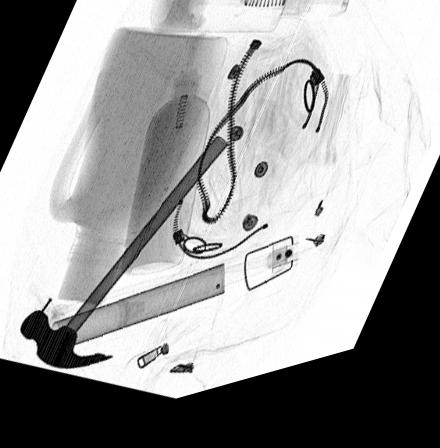Hammer: (20, 146, 229, 374)
